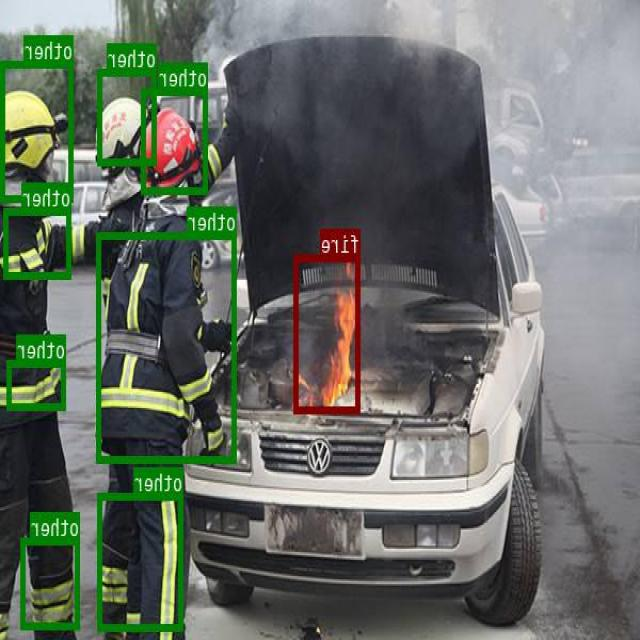fire: (295, 254, 361, 413)
other: (98, 232, 237, 461), (99, 492, 184, 630), (2, 61, 74, 200), (143, 87, 208, 193), (99, 68, 157, 163), (22, 537, 80, 629), (5, 207, 72, 278), (8, 358, 66, 408)
